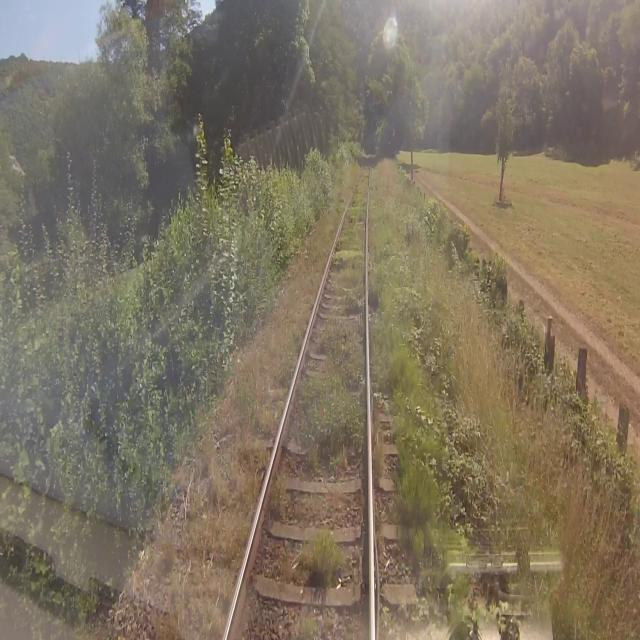Plant: (138, 153, 357, 639), (369, 162, 533, 639), (302, 309, 364, 475), (290, 533, 345, 590), (334, 204, 365, 274), (343, 284, 363, 318)
